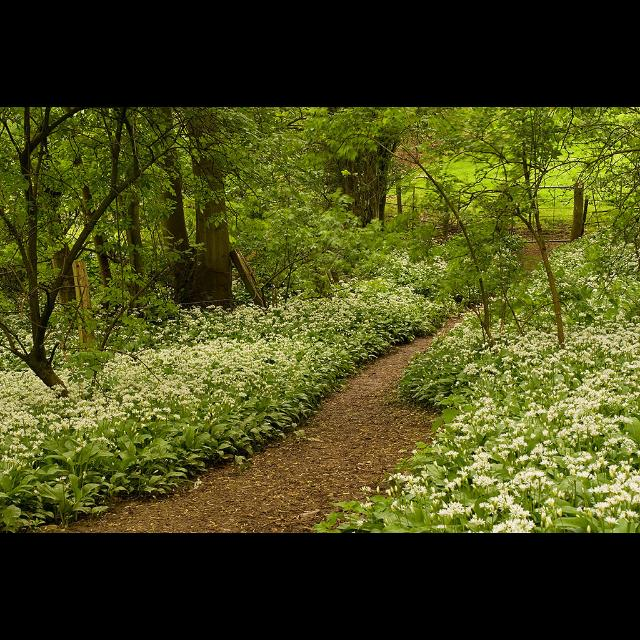Flower: (1, 245, 640, 533), (437, 507, 449, 517)
